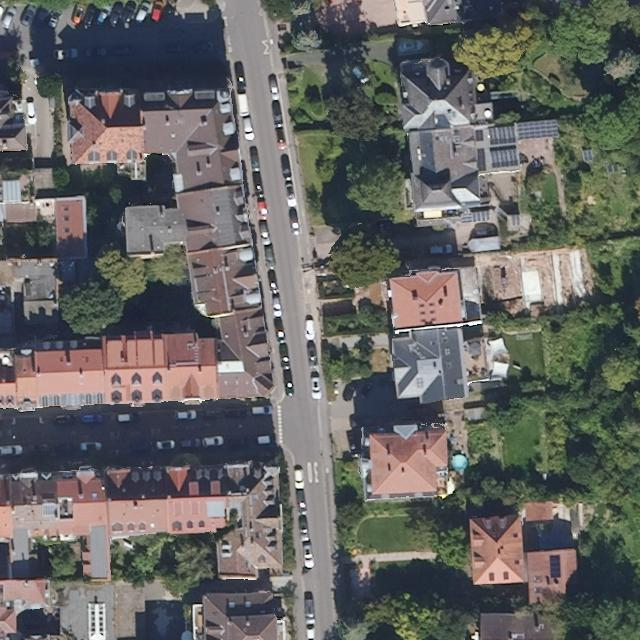PV: (550, 555, 561, 582)
